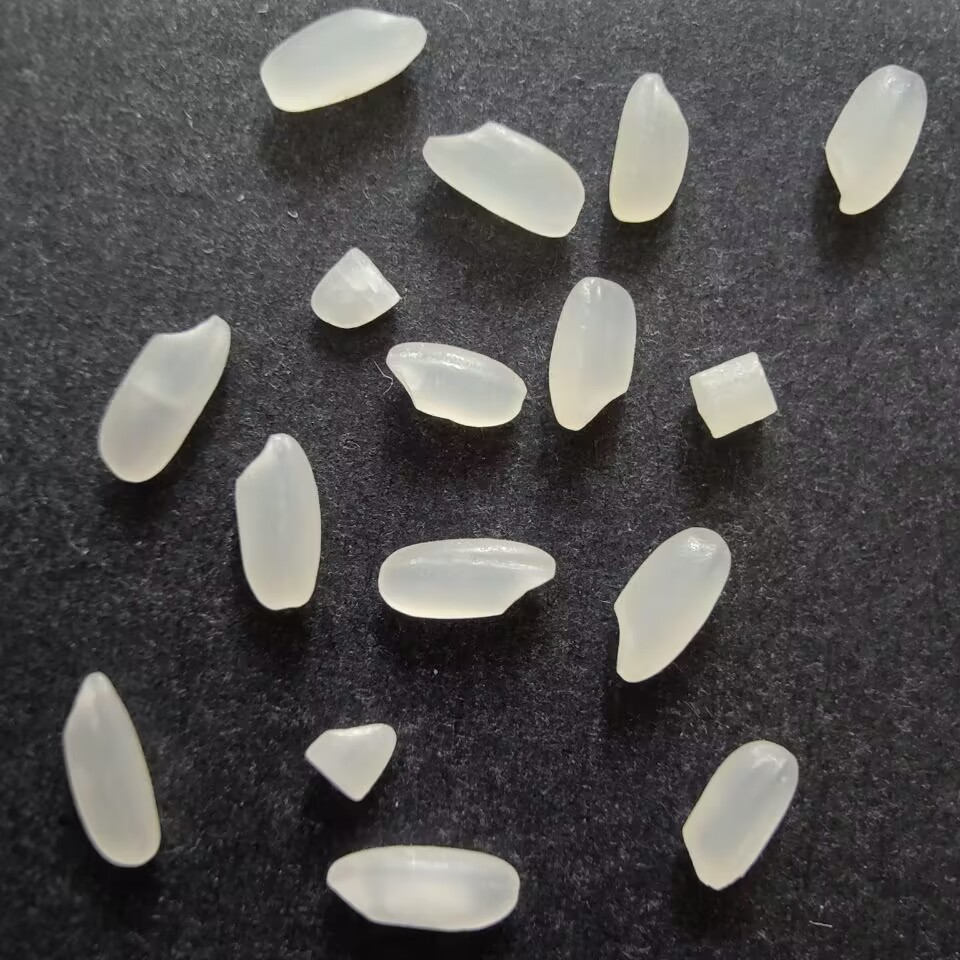broken: (304, 245, 407, 334), (686, 348, 779, 442), (301, 717, 402, 803)
rice: (94, 311, 238, 488), (59, 669, 163, 867), (419, 119, 588, 239), (610, 526, 732, 690), (677, 734, 802, 892), (256, 7, 431, 117), (317, 844, 526, 935), (231, 428, 323, 612), (822, 62, 929, 214), (377, 536, 556, 623), (547, 275, 640, 433), (381, 341, 530, 432), (605, 70, 690, 225)
